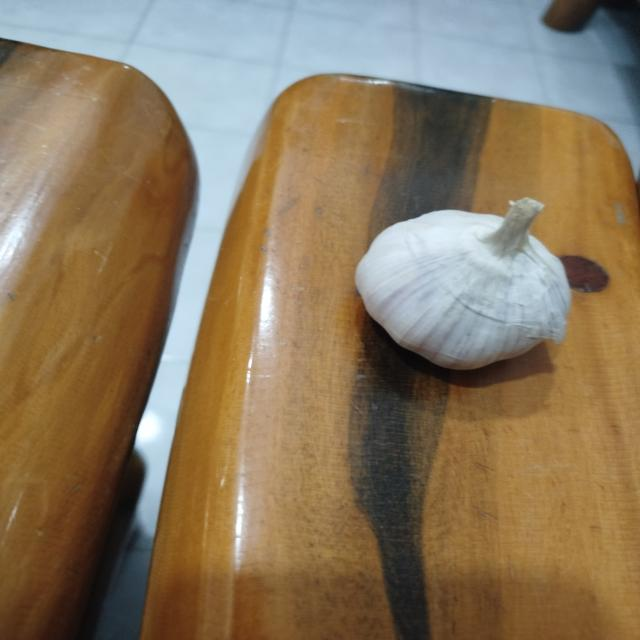garlic: (309, 173, 616, 391)
